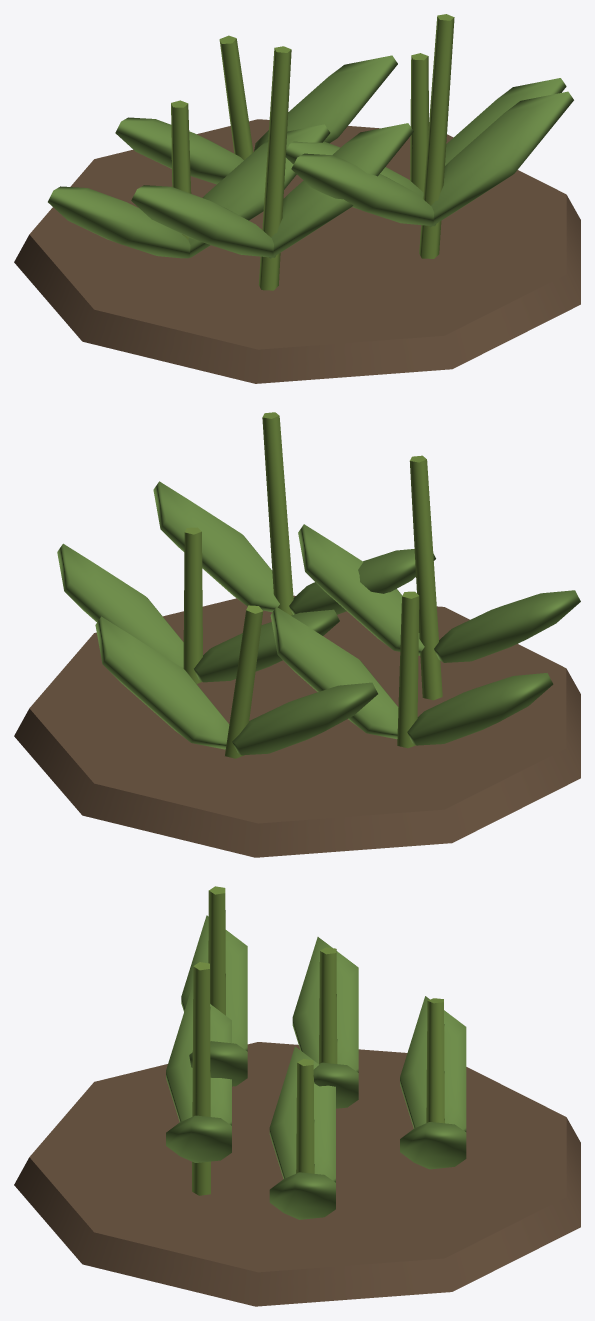
The model's file is Nature_Crop_Young.glb.
3 renders of one model, top to bottom at view 1: azimuth 30°, elevation 25°; view 2: azimuth 150°, elevation 25°; view 3: azimuth 270°, elevation 25°, orthographic.
Parts seen in each view (by area): view 1: _MeshInstance3D_4483, _MeshInstance3D_4495, _MeshInstance3D_4488, _MeshInstance3D_4489, _MeshInstance3D_4497, _MeshInstance3D_4494, _MeshInstance3D_4492, _MeshInstance3D_4493, _MeshInstance3D_4487, _MeshInstance3D_4498, _MeshInstance3D_4491, _MeshInstance3D_4484 (+4 smaller); view 2: _MeshInstance3D_4483, _MeshInstance3D_4492, _MeshInstance3D_4495, _MeshInstance3D_4498, _MeshInstance3D_4486, _MeshInstance3D_4489, _MeshInstance3D_4488, _MeshInstance3D_4497, _MeshInstance3D_4491, _MeshInstance3D_4487, _MeshInstance3D_4493, _MeshInstance3D_4485 (+4 smaller); view 3: _MeshInstance3D_4483, _MeshInstance3D_4491, _MeshInstance3D_4497, _MeshInstance3D_4485, _MeshInstance3D_4494, _MeshInstance3D_4493, _MeshInstance3D_4488, _MeshInstance3D_4492, _MeshInstance3D_4486, _MeshInstance3D_4495, _MeshInstance3D_4490, _MeshInstance3D_4487 (+4 smaller).
Boxes of the visible parts, box(x1,y1,x2,y2) form: _MeshInstance3D_4483: box(14, 119, 580, 383); _MeshInstance3D_4495: box(429, 91, 573, 227); _MeshInstance3D_4488: box(131, 185, 275, 257); _MeshInstance3D_4489: box(269, 123, 413, 258); _MeshInstance3D_4497: box(48, 186, 190, 258); _MeshInstance3D_4494: box(291, 153, 435, 226); _MeshInstance3D_4492: box(254, 55, 397, 151); _MeshInstance3D_4493: box(419, 14, 454, 258); _MeshInstance3D_4487: box(258, 46, 291, 290); _MeshInstance3D_4498: box(188, 124, 330, 257); _MeshInstance3D_4491: box(115, 117, 243, 184); _MeshInstance3D_4484: box(410, 53, 428, 191); _MeshInstance3D_4483: box(14, 595, 580, 857); _MeshInstance3D_4492: box(95, 616, 229, 749); _MeshInstance3D_4495: box(153, 481, 293, 612); _MeshInstance3D_4498: box(270, 607, 398, 739); _MeshInstance3D_4486: box(57, 543, 183, 668); _MeshInstance3D_4489: box(298, 524, 424, 655); _MeshInstance3D_4488: box(434, 590, 580, 662); _MeshInstance3D_4497: box(407, 673, 553, 745); _MeshInstance3D_4491: box(232, 682, 377, 755); _MeshInstance3D_4487: box(409, 455, 442, 700); _MeshInstance3D_4493: box(262, 412, 293, 615); _MeshInstance3D_4485: box(194, 609, 339, 682); _MeshInstance3D_4483: box(14, 1042, 580, 1306); _MeshInstance3D_4491: box(400, 996, 466, 1131); _MeshInstance3D_4497: box(292, 937, 358, 1072); _MeshInstance3D_4485: box(269, 1046, 335, 1182); _MeshInstance3D_4494: box(166, 989, 231, 1125); _MeshInstance3D_4493: box(192, 962, 210, 1195); _MeshInstance3D_4488: box(181, 915, 247, 1051); _MeshInstance3D_4492: box(400, 1122, 466, 1169); _MeshInstance3D_4486: box(269, 1172, 335, 1219); _MeshInstance3D_4495: box(166, 1115, 231, 1162); _MeshInstance3D_4490: box(426, 998, 444, 1123); _MeshInstance3D_4487: box(208, 886, 225, 1015).
Size of the model in its own units: 0.7622 by 0.3758 by 0.7371.
